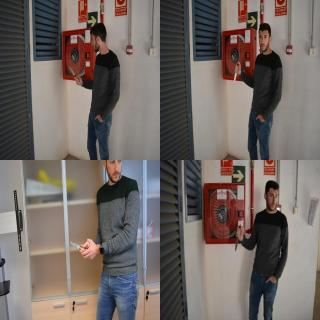knife: (69, 240, 88, 252), (234, 223, 241, 253), (233, 60, 239, 86), (68, 64, 78, 79)
